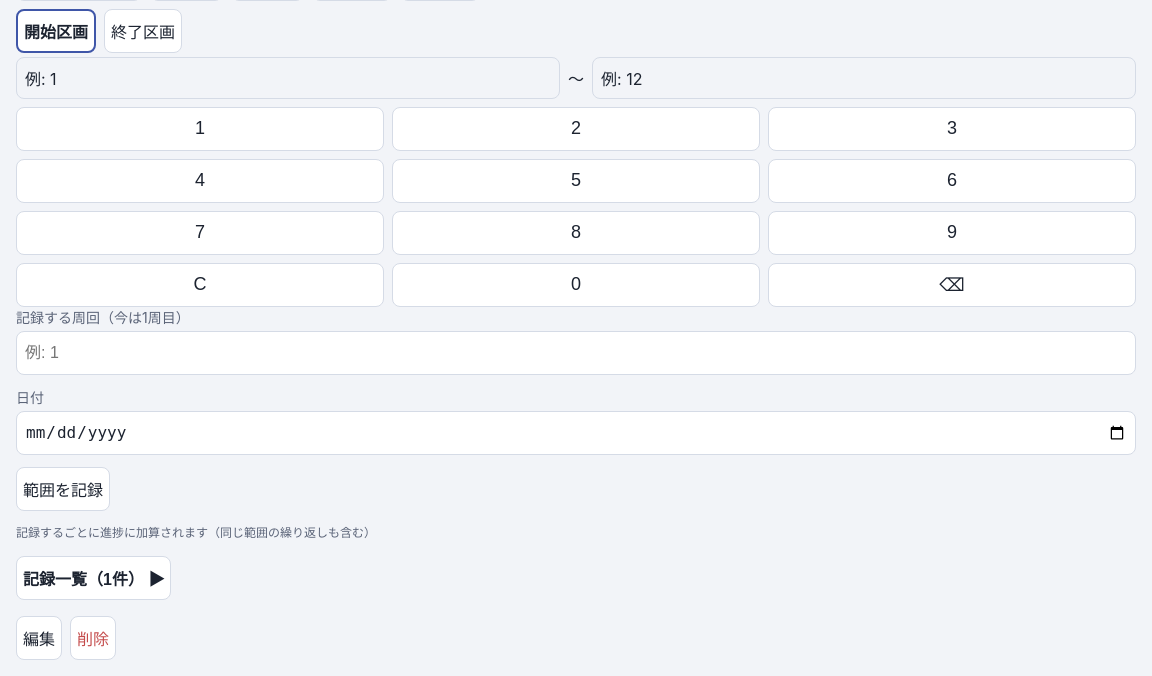
Test: BookDetailScreen › 記録行に周目の横に記録時刻を表示する
The width and height of the screenshot is (1152, 676).
(page scrolled)
Click the button with test id "cycle-list-toggle": (94, 578) x1=16 y1=556 x2=171 y2=600
(page scrolled)
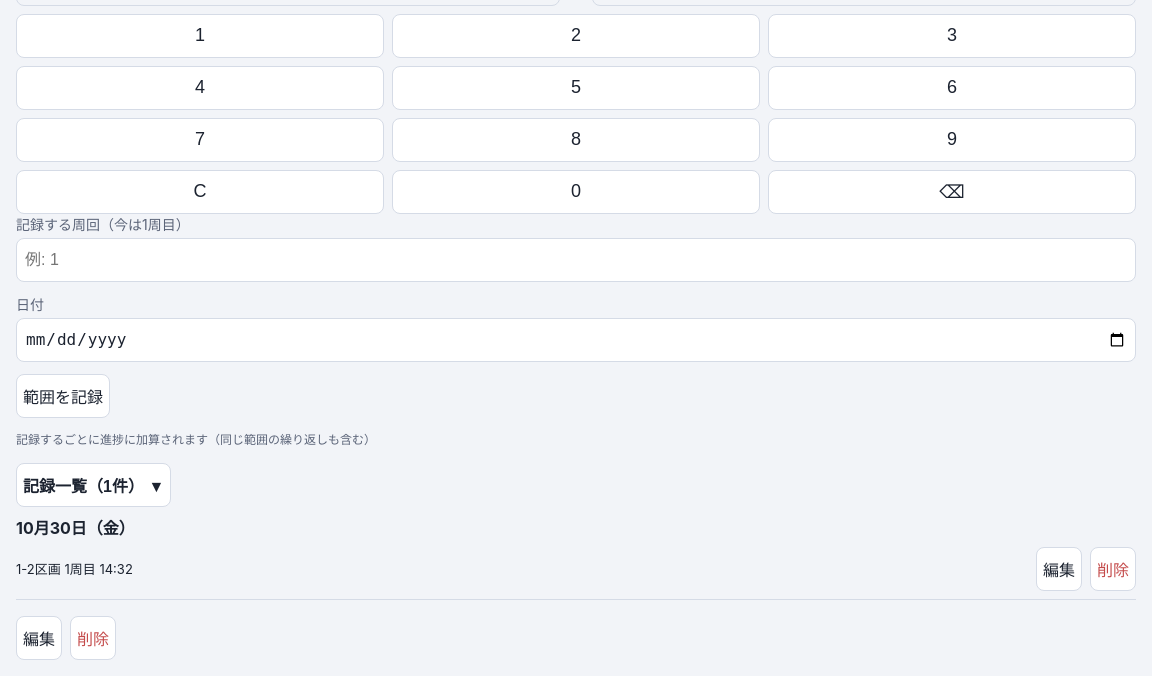
Check: the element with test id "cycle-row-c1" shows "1周目 14:32", box x1=16 y1=539 x2=1136 y2=600
